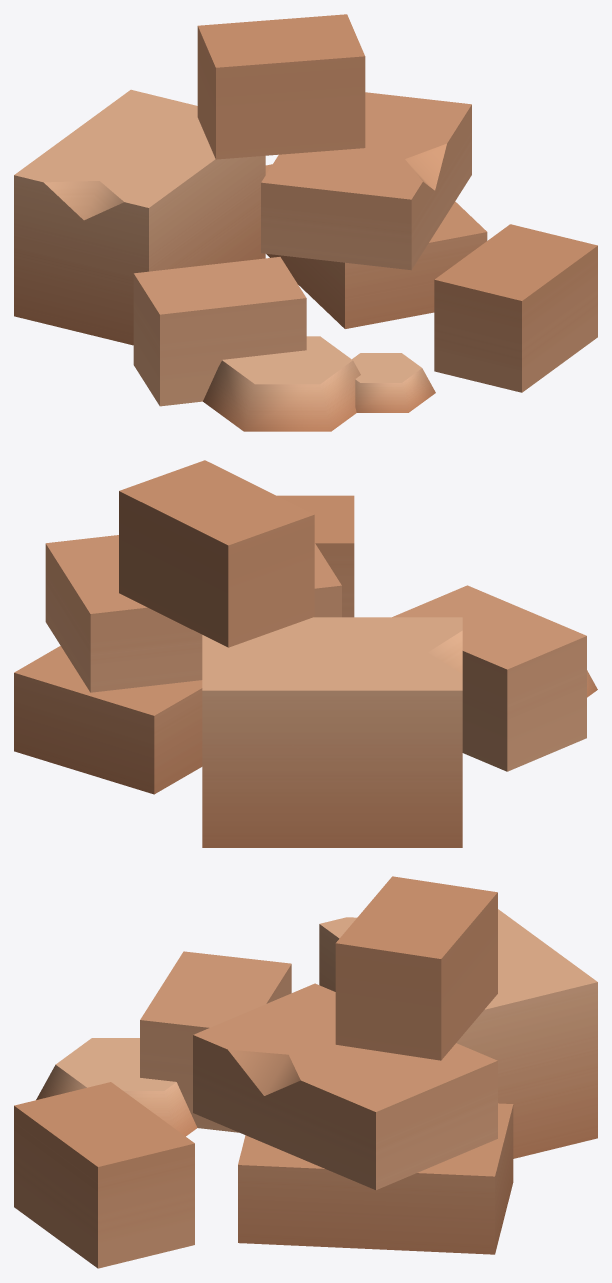
The model's file is bricks.obj.
3 views of the same model, one above another, from view 1: azimuth 30°, elevation 25°; view 2: azimuth 150°, elevation 25°; view 3: azimuth 270°, elevation 25° (orthographic). The views are drawn at different scales.
Parts seen in each view (by area): view 1: bricks; view 2: bricks; view 3: bricks.
Boxes of the visible parts, x1,y1,x2,y2 form: bricks: (14, 14, 597, 431); bricks: (14, 460, 597, 847); bricks: (14, 876, 597, 1268).
Size of the model in its own units: 0.772 by 0.4125 by 0.8469.
Materials: 1 (1 with a texture image).
